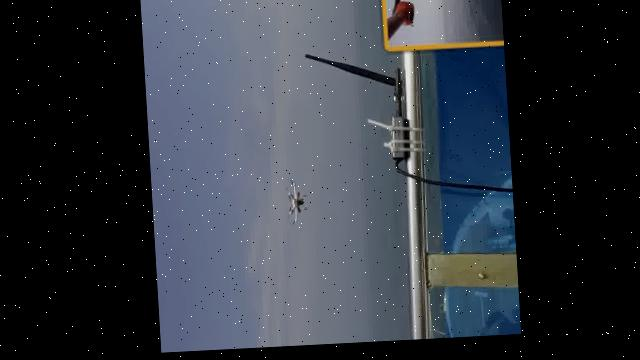drone: (279, 171, 307, 234)
